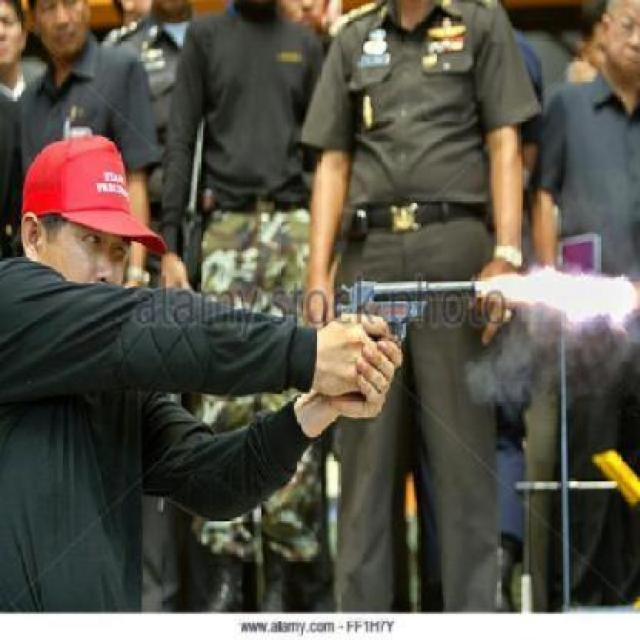gun: (314, 253, 490, 407)
